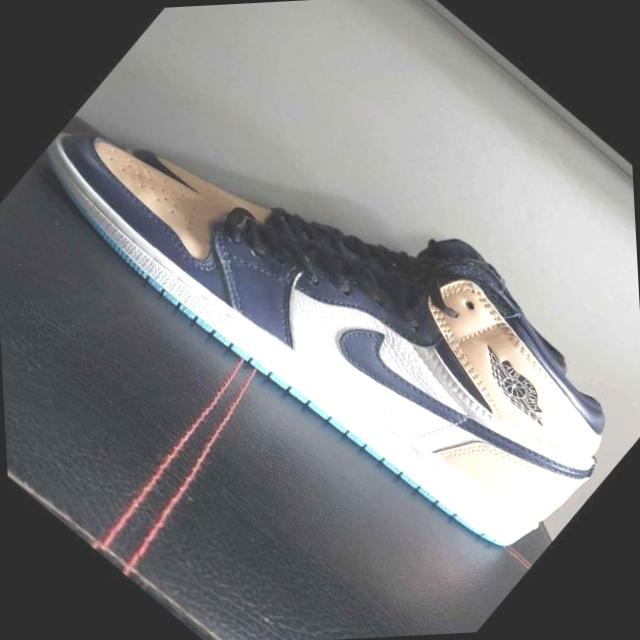nike_fake_jordan: (12, 0, 640, 606)
